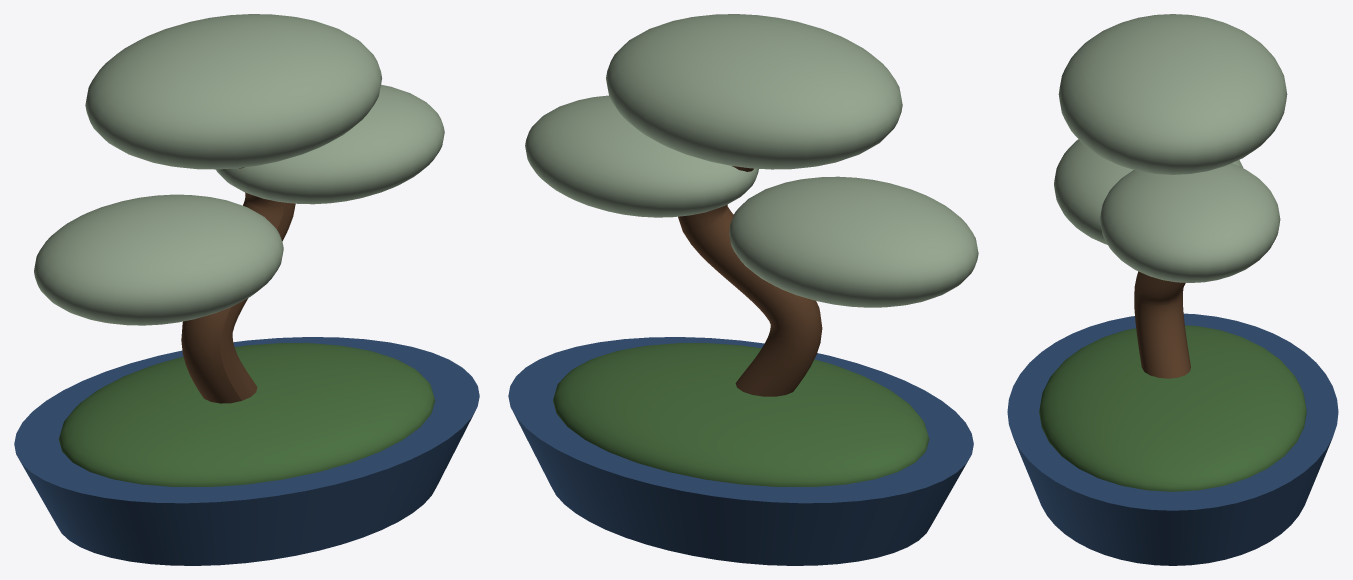
File: miniature_art.glb
3 renders of one model, left to right at view 1: azimuth 30°, elevation 25°; view 2: azimuth 150°, elevation 25°; view 3: azimuth 270°, elevation 25°, orthographic. The views are drawn at different scales.
Size of the model in its own units: 1.63 by 1.68 by 1.16.
